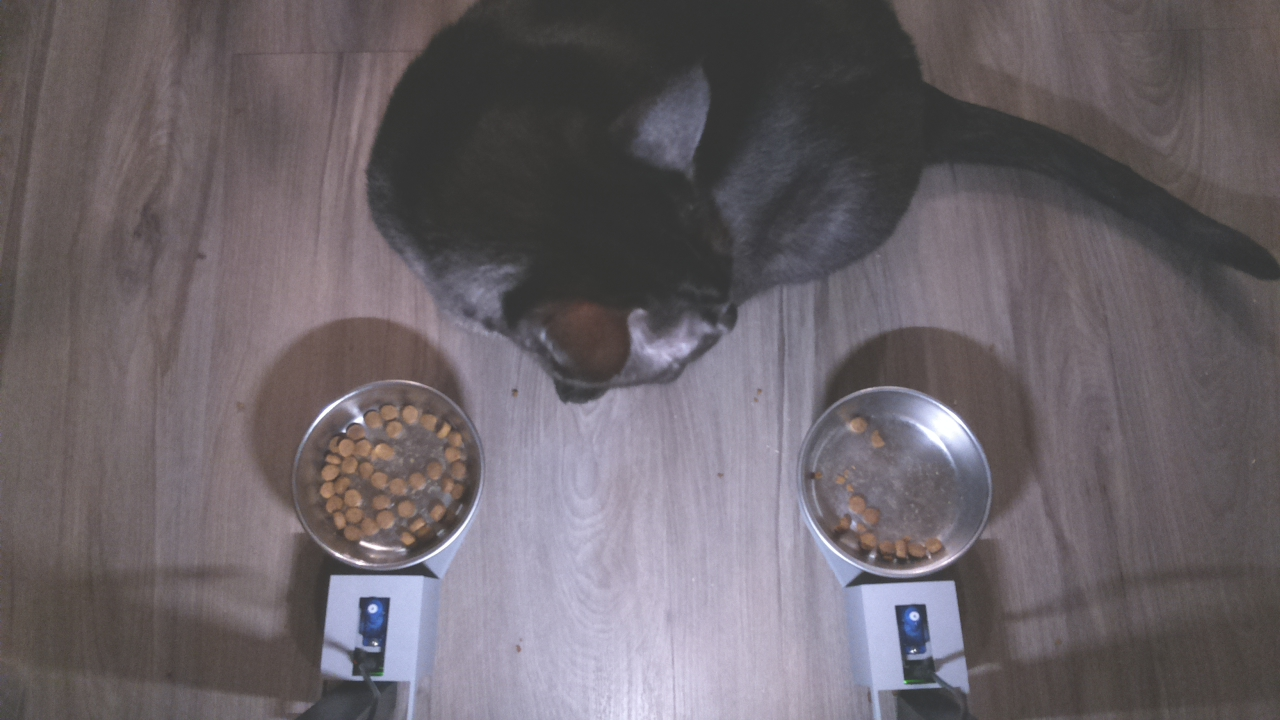open_bowl: (282, 370, 501, 590), (789, 380, 1007, 586)
saki: (373, 63, 784, 394)
